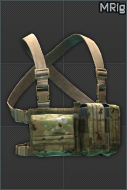SOE Micro Rig: (0, 0, 127, 190)
